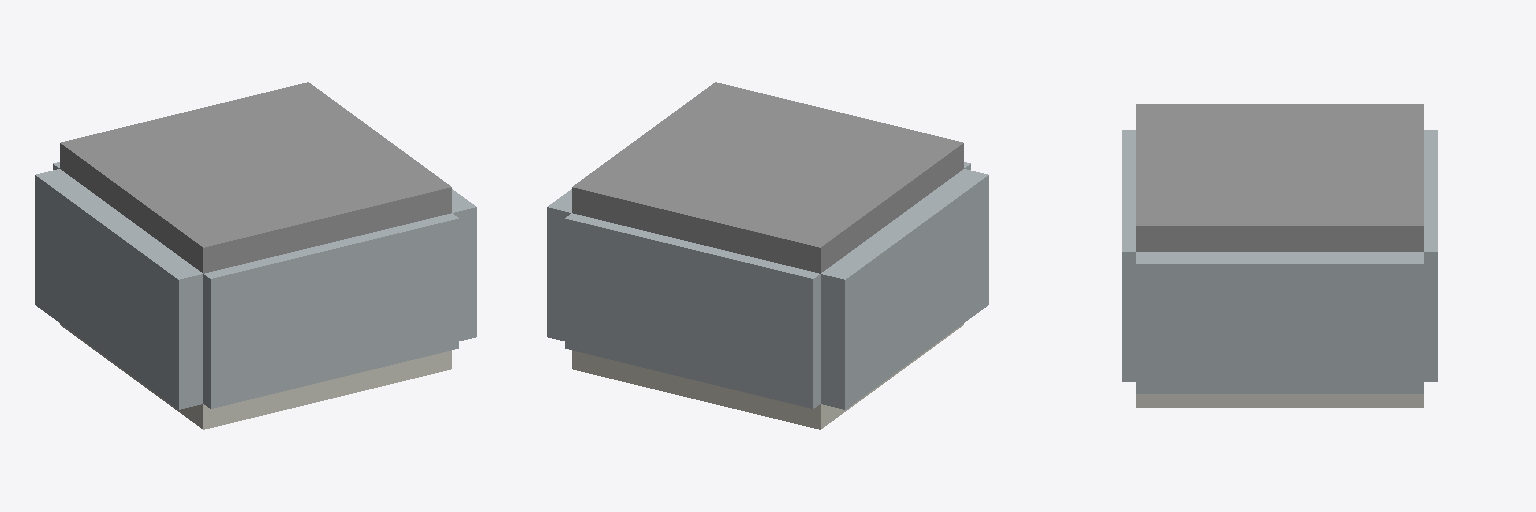
3 renders of one model, left to right at view 1: azimuth 30°, elevation 25°; view 2: azimuth 150°, elevation 25°; view 3: azimuth 270°, elevation 25°, orthographic.
Visible parts, largest first — view 1: Cube.005_Cube.001, Cube.004_Cube.011, Cube.002_Cube.006, Cube, Cube.001_Cube.003; view 2: Cube.005_Cube.001, Cube.003_Cube.010, Cube.002_Cube.006, Cube, Cube.001_Cube.003; view 3: Cube.005_Cube.001, Cube.001_Cube.003, Cube, Cube.004_Cube.011, Cube.003_Cube.010.
Boxes of the visible parts, x1,y1,x2,y2 form: Cube.005_Cube.001: [60, 82, 451, 273]; Cube.004_Cube.011: [203, 213, 458, 408]; Cube.002_Cube.006: [35, 169, 202, 409]; Cube: [60, 324, 451, 429]; Cube.001_Cube.003: [452, 189, 476, 340]; Cube.005_Cube.001: [572, 82, 963, 273]; Cube.003_Cube.010: [565, 213, 820, 408]; Cube.002_Cube.006: [821, 169, 988, 409]; Cube: [572, 324, 963, 429]; Cube.001_Cube.003: [547, 189, 571, 340]; Cube.005_Cube.001: [1136, 104, 1423, 251]; Cube.001_Cube.003: [1136, 252, 1423, 393]; Cube: [1136, 394, 1423, 407]; Cube.004_Cube.011: [1122, 130, 1135, 381]; Cube.003_Cube.010: [1424, 130, 1437, 381].
Size of the model in its own units: 24 by 14 by 22.
8 materials, 3 textured.